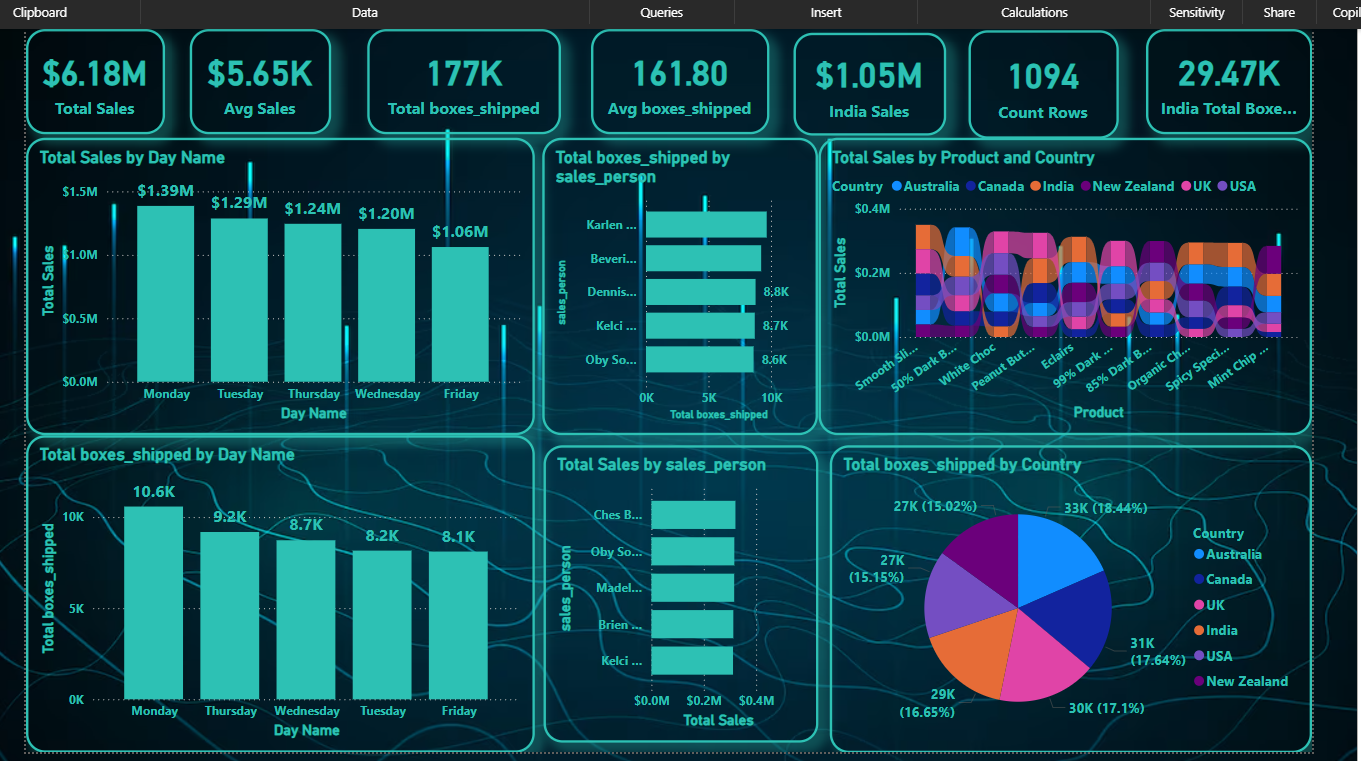

The dashboard page shown, as its layout file describes it:
{"tool":"powerbi","page":{"name":"Chocolate Sales DashBoard 2","canvas":[1280,720],"ordinal":2},"visuals":[{"type":"card","fields":{"Values":["Measure.Total Sales"]},"box":[0,0,138.1,104.5],"z":0},{"type":"card","fields":{"Values":["Measure.Avg Sales"]},"box":[163,0,140.6,104.5],"z":1000},{"type":"card","fields":{"Values":["Measure.Total boxes_shipped"]},"box":[339.6,0,192.8,104.5],"z":2000},{"type":"card","fields":{"Values":["Measure.Avg boxes_shipped"]},"box":[562.3,0,177.9,104.5],"z":3000},{"type":"card","fields":{"Values":["Measure.Count Rows"]},"box":[937.9,1.2,149.3,108.2],"z":4000},{"type":"card","fields":{"Values":["Measure.India Sales"]},"box":[763.8,3.7,151.8,102],"z":5000},{"type":"card","fields":{"Values":["Measure.India Total Boxes_shipped"]},"box":[1114.6,0,165.4,104.5],"z":6000},{"type":"clusteredColumnChart","fields":{"Y":["Measure.Total Sales"],"Category":["Date Table.Day Name"]},"box":[0,108.2,506.3,296.1],"z":10000},{"type":"clusteredColumnChart","fields":{"Y":["Measure.Total boxes_shipped"],"Category":["Date Table.Day Name"]},"box":[0,404.3,506.3,316],"z":11000},{"type":"clusteredBarChart","fields":{"Y":["Measure.Total boxes_shipped"],"Category":["Chocolate Dataset.sales_person"]},"box":[513.2,108.4,274.4,296.4],"z":12000},{"type":"pieChart","fields":{"Category":["Chocolate Dataset.Country"],"Y":["Measure.Total boxes_shipped"]},"box":[799.9,414.2,480.2,306],"z":14000},{"type":"clusteredBarChart","fields":{"Y":["Measure.Total Sales"],"Category":["Chocolate Dataset.sales_person"]},"box":[515,414.2,273.7,296.1],"z":14001},{"type":"ribbonChart","fields":{"Category":["Chocolate Dataset.Product"],"Series":["Chocolate Dataset.Country"],"Y":["Measure.Total Sales"]},"box":[788.7,108.2,491.4,296.1],"z":14002}]}

Visuals, with their boxes in screenshot pixels (x1, y1, x2, y2):
card - Measure.Total Sales: (x1=21, y1=25, x2=160, y2=130)
card - Measure.Avg Sales: (x1=185, y1=25, x2=327, y2=130)
card - Measure.Total boxes_shipped: (x1=363, y1=25, x2=557, y2=130)
card - Measure.Avg boxes_shipped: (x1=587, y1=25, x2=766, y2=130)
card - Measure.Count Rows: (x1=965, y1=26, x2=1116, y2=135)
card - Measure.India Sales: (x1=790, y1=29, x2=943, y2=131)
card - Measure.India Total Boxes_shipped: (x1=1143, y1=25, x2=1310, y2=130)
clusteredColumnChart - Measure.Total Sales x Date Table.Day Name: (x1=21, y1=134, x2=531, y2=432)
clusteredColumnChart - Measure.Total boxes_shipped x Date Table.Day Name: (x1=21, y1=432, x2=531, y2=750)
clusteredBarChart - Measure.Total boxes_shipped x Chocolate Dataset.sales_person: (x1=538, y1=134, x2=814, y2=432)
pieChart - Chocolate Dataset.Country x Measure.Total boxes_shipped: (x1=827, y1=442, x2=1310, y2=750)
clusteredBarChart - Measure.Total Sales x Chocolate Dataset.sales_person: (x1=540, y1=442, x2=815, y2=740)
ribbonChart - Chocolate Dataset.Product x Chocolate Dataset.Country: (x1=815, y1=134, x2=1310, y2=432)
